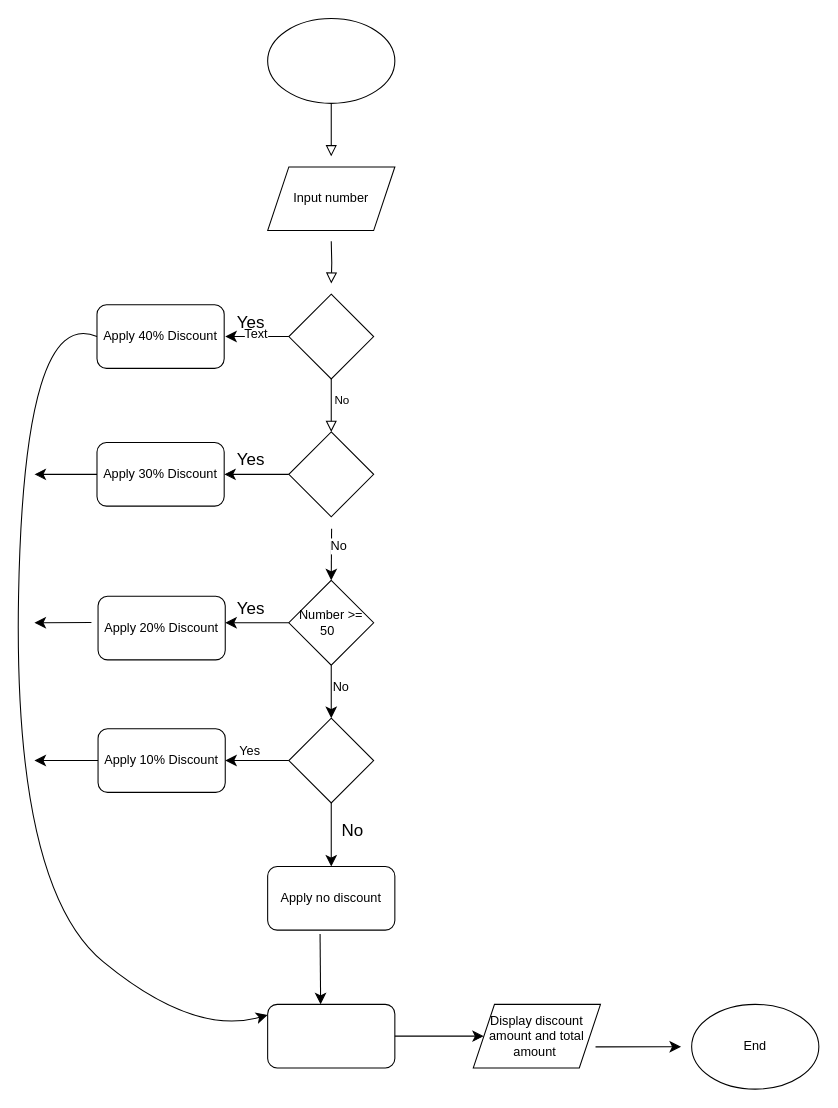
This 838x1108 diagram has some shape labels left out. The centre of each missing label's shape, as x and y in pixels:
"Calculate discount ammount, total after discount" belongs at point (331, 1035).
"Number >= 10" belongs at point (331, 760).
"Number >= 100" belongs at point (331, 474).
"Number >= 150" belongs at point (331, 336).
"Start program that Enter # of packages purchased" belongs at point (331, 60).
